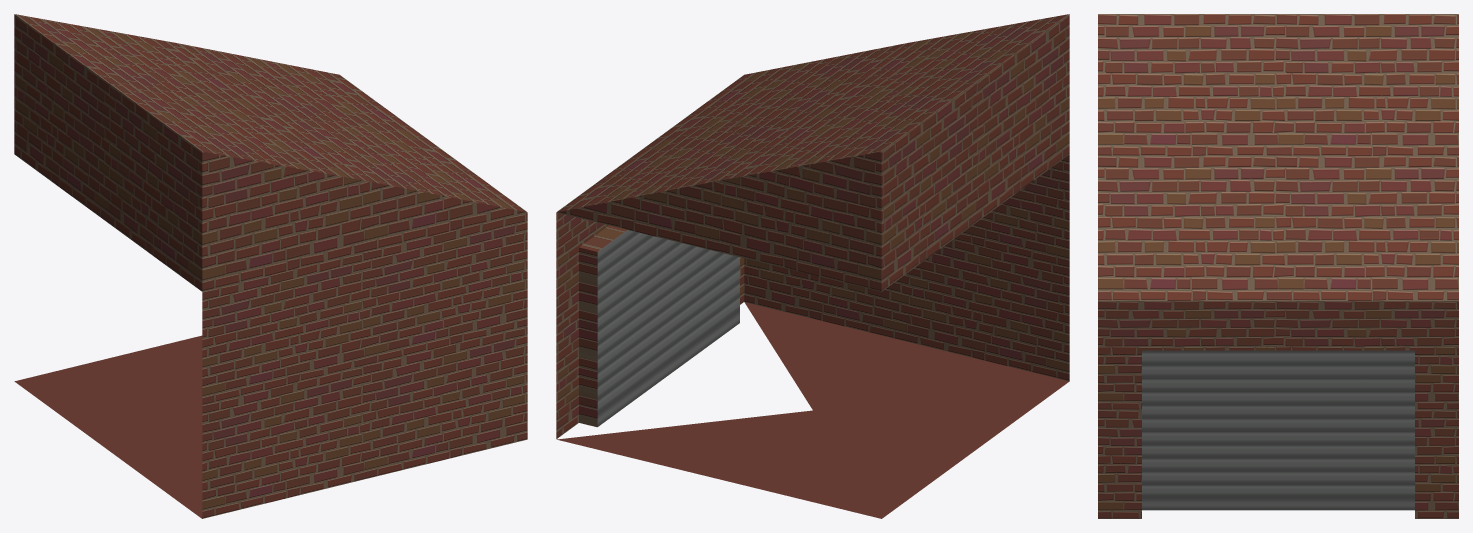
The model's file is Bock_A2(0).fbx.
The picture shows the model from 3 angles, left to right: view 1: azimuth 30°, elevation 25°; view 2: azimuth 150°, elevation 25°; view 3: azimuth 270°, elevation 25°; orthographic projection. The views are drawn at different scales.
Parts seen in each view (by area): view 1: Bock_A2; view 2: Bock_A2; view 3: Bock_A2.
Boxes of the visible parts, <box> form: Bock_A2: <box>14,14,527,518</box>; Bock_A2: <box>556,14,1069,518</box>; Bock_A2: <box>1098,14,1458,518</box>.
Bounding box in the file's own units: 600 × 647 × 600.
